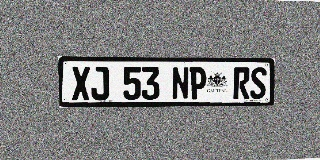3: (142, 67, 159, 100)
5: (123, 67, 141, 100)
J: (90, 66, 109, 100)
N: (172, 67, 189, 100)
P: (189, 67, 207, 99)
R: (233, 67, 250, 99)
S: (250, 67, 267, 99)
X: (71, 66, 90, 100)
